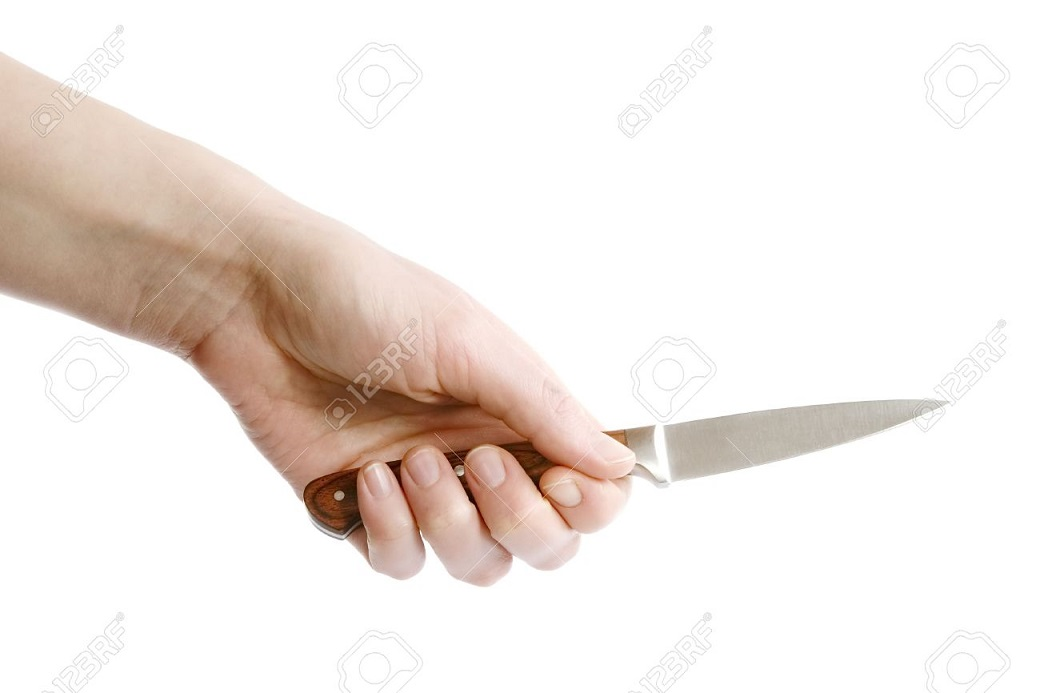knife: (361, 352, 979, 591)
